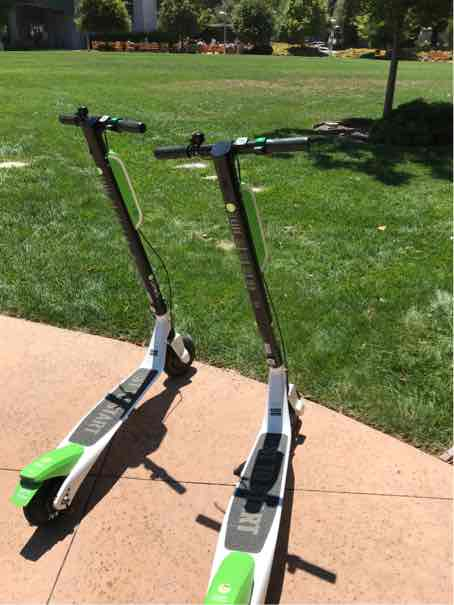scooter: (10, 104, 201, 539), (147, 131, 316, 605)
